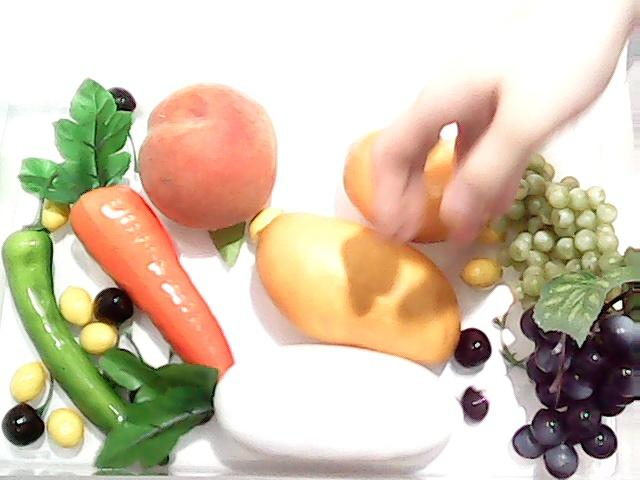carrot: (18, 76, 234, 379)
grape: (512, 254, 640, 480), (491, 147, 621, 309)
lemon: (336, 123, 506, 249)
mango: (250, 208, 458, 368)
peach: (139, 84, 275, 232)
pepper: (0, 197, 174, 455)
radish: (94, 344, 466, 474)
